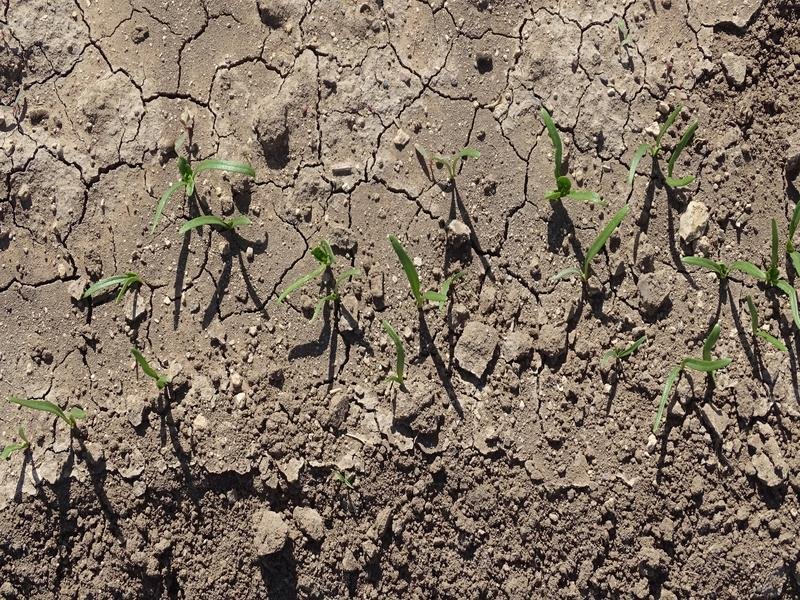Espinaca: (708, 225, 800, 325), (152, 156, 260, 232), (628, 104, 709, 196), (652, 343, 733, 429), (551, 205, 629, 288), (281, 240, 363, 318), (538, 108, 599, 208), (385, 231, 452, 306), (9, 394, 98, 430), (78, 266, 148, 306), (126, 354, 169, 396), (381, 317, 409, 381), (427, 149, 477, 181)
